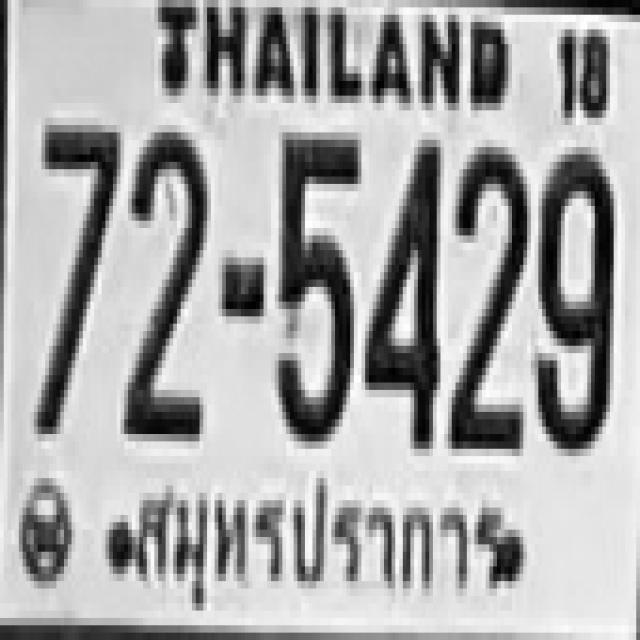2: (120, 121, 204, 438), (448, 144, 523, 445)
4: (361, 132, 437, 442)
5: (274, 128, 358, 438)
7: (34, 118, 117, 426)
9: (534, 147, 610, 449)
SPK: (134, 472, 511, 609)
